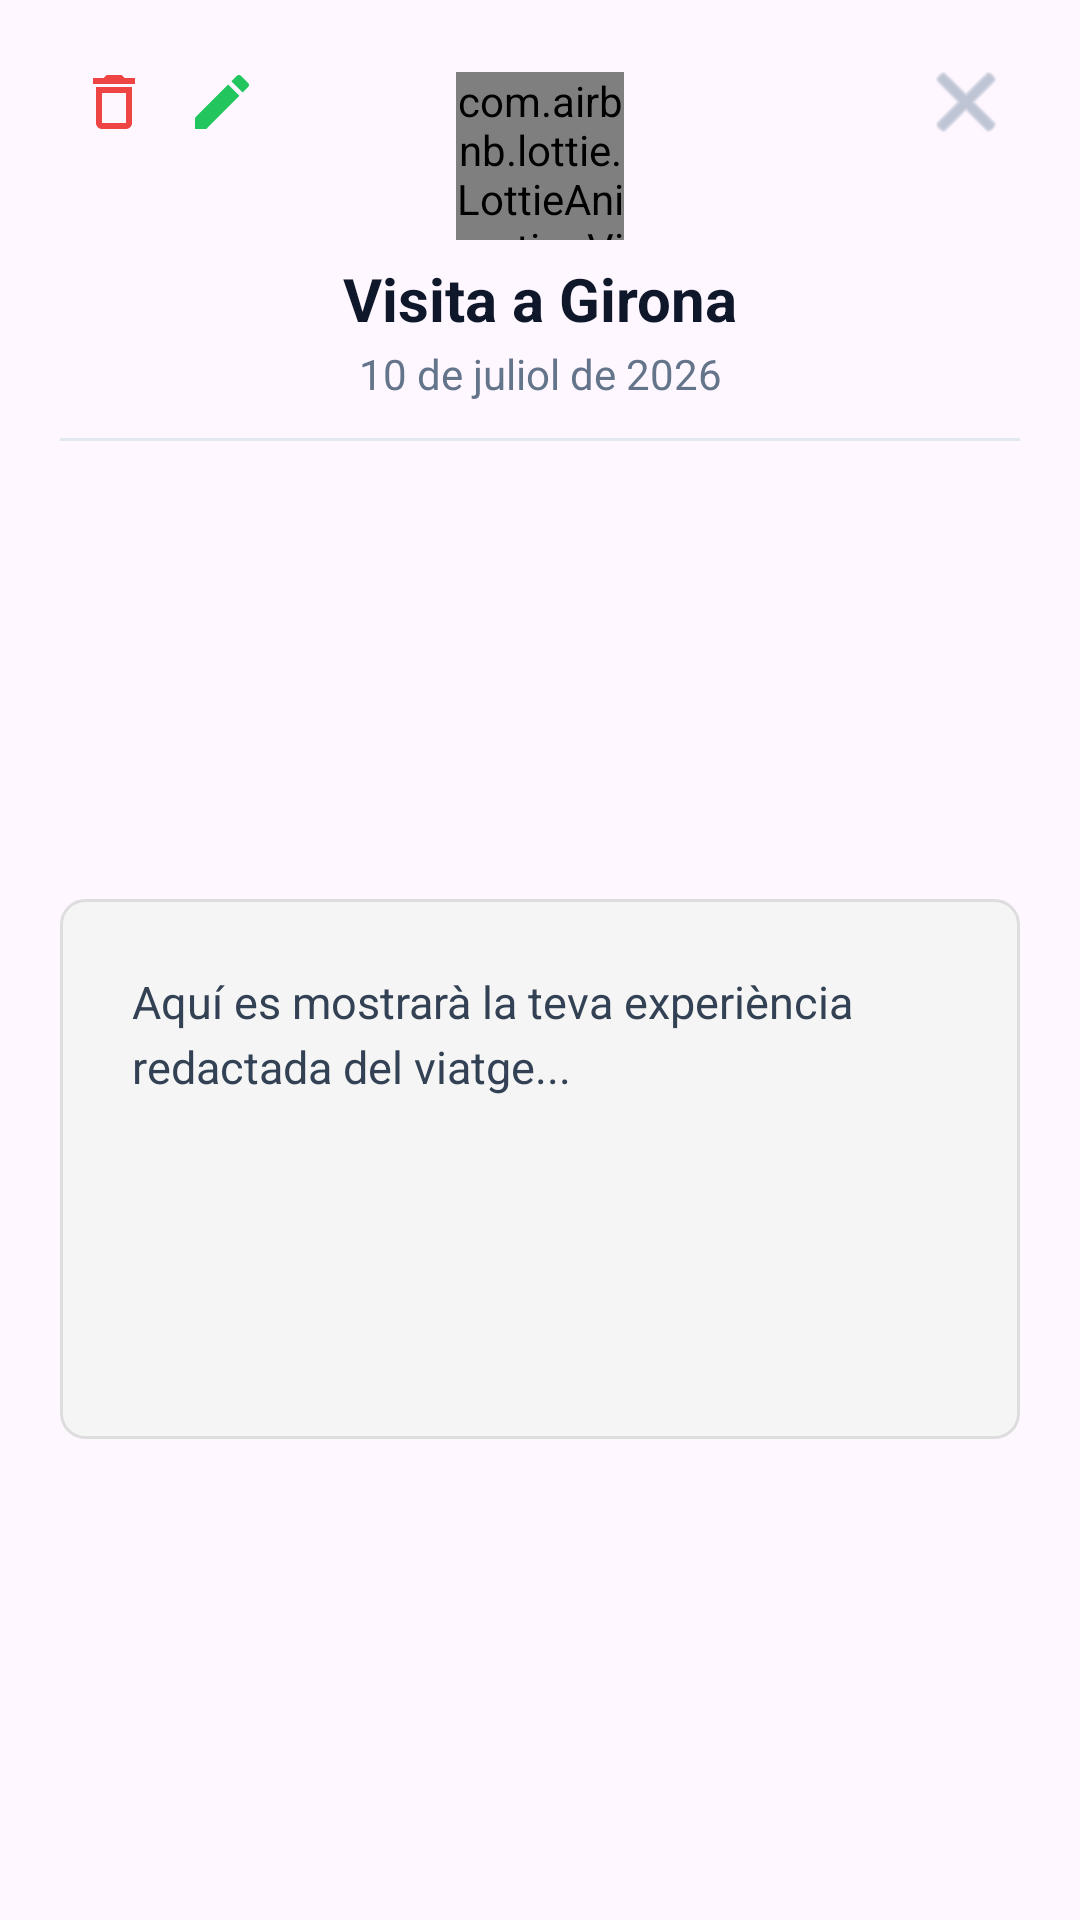

Icon click points for this 1080x1920 phone screenshot, format (x=x, y=y):
Eliminar: (x=114, y=102)
Modificar: (x=222, y=102)
Tancar: (x=966, y=102)
